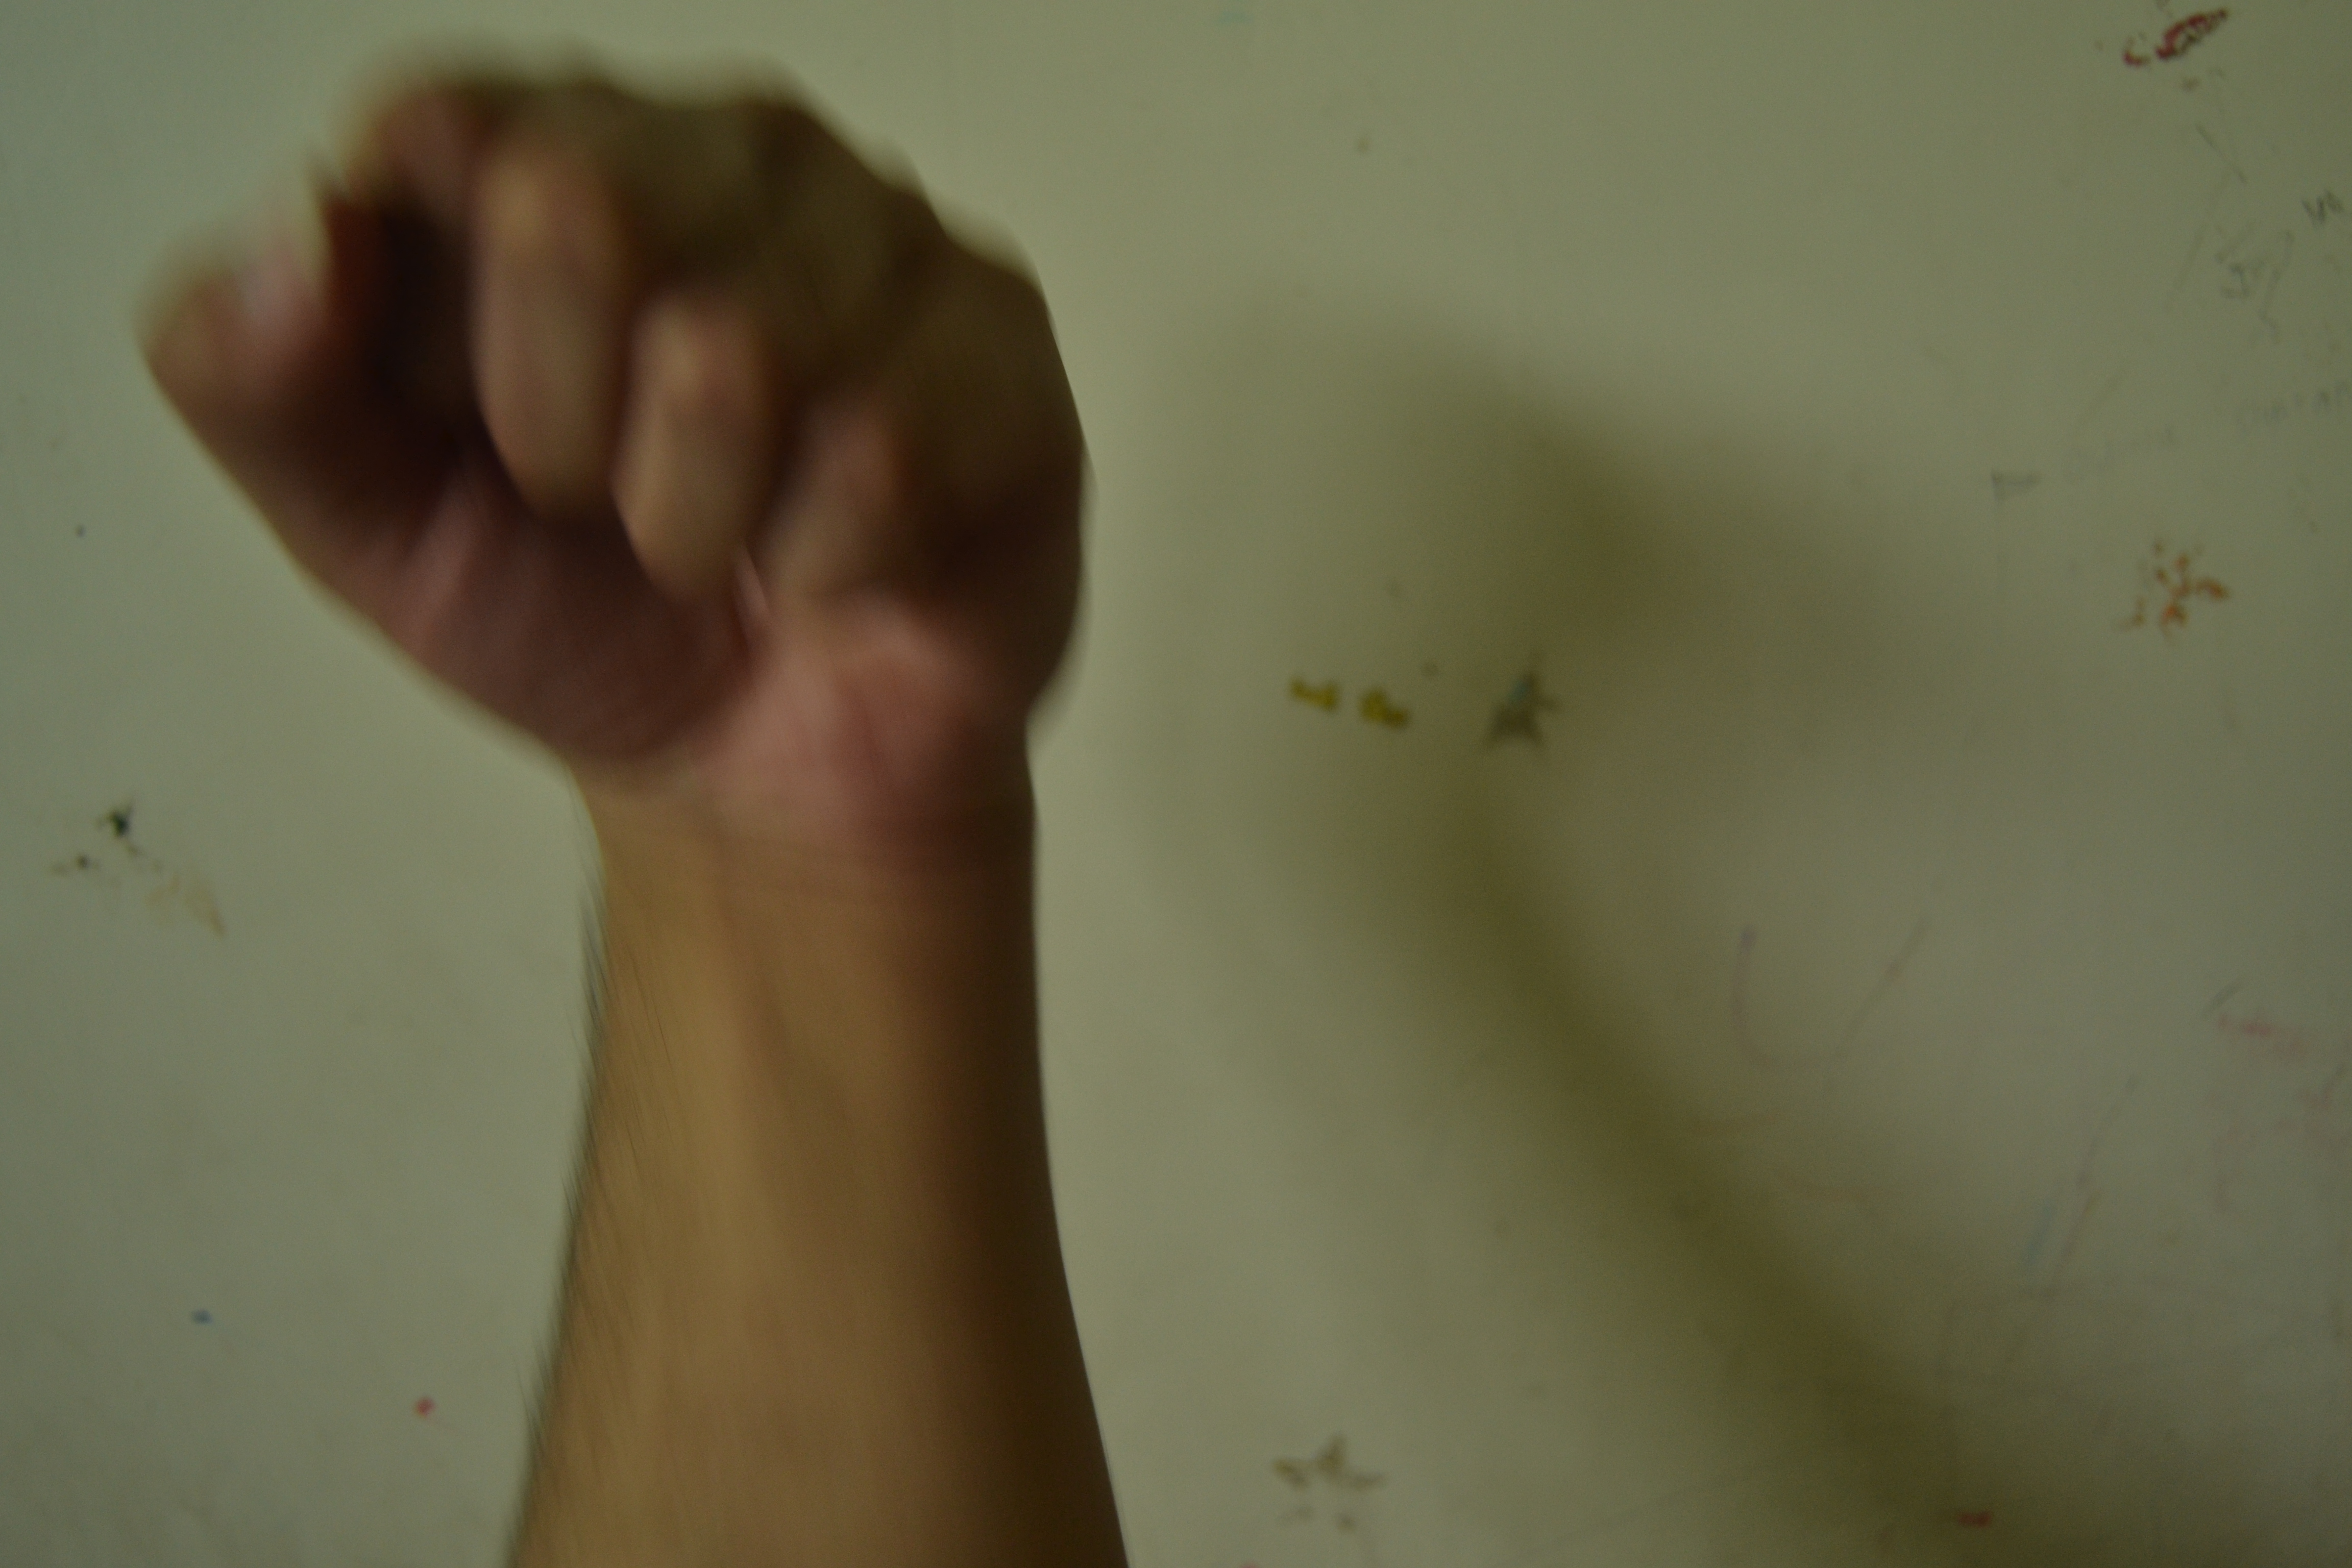click: (114, 33, 1220, 863)
